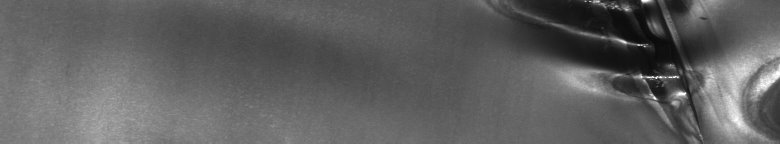ke: (516, 4, 776, 136)
